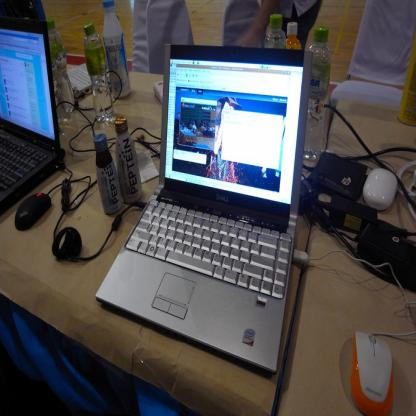board: (94, 43, 312, 389), (0, 16, 65, 212), (302, 27, 332, 161), (85, 22, 113, 121), (104, 0, 132, 98), (48, 18, 74, 123), (115, 115, 144, 204), (95, 132, 122, 215), (266, 13, 285, 47), (284, 19, 302, 51)
